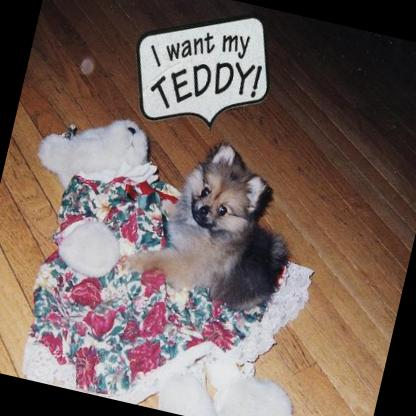Pomeranian: (117, 123, 311, 318)
